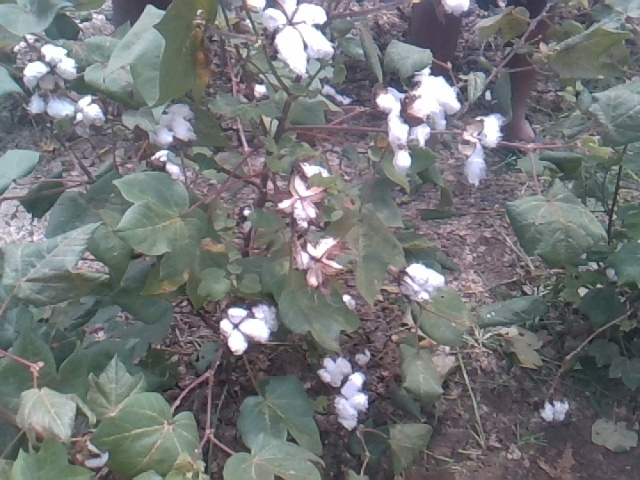cotton: (259, 1, 337, 73), (407, 69, 460, 127), (376, 88, 413, 169), (462, 115, 503, 184), (23, 44, 77, 94), (217, 307, 268, 357), (398, 260, 449, 304), (152, 102, 199, 144), (335, 377, 369, 431), (75, 93, 105, 140), (26, 94, 73, 122), (316, 353, 354, 386), (250, 297, 281, 334), (539, 398, 568, 422), (301, 160, 331, 179)
